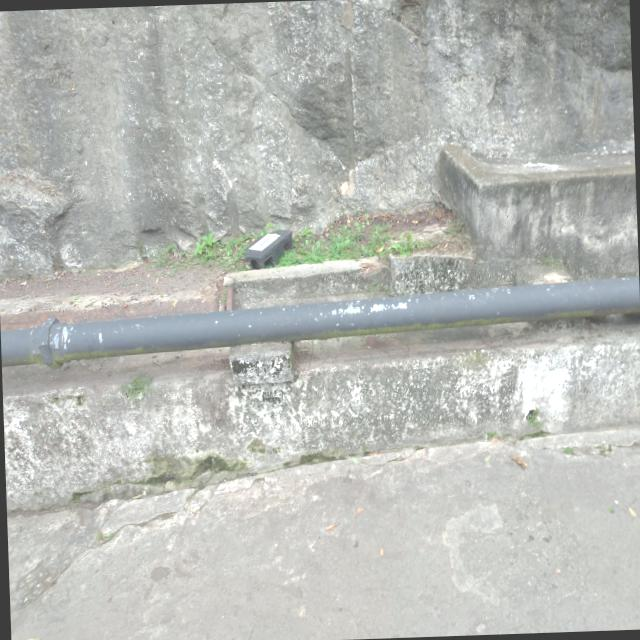gas: (0, 275, 639, 366)
